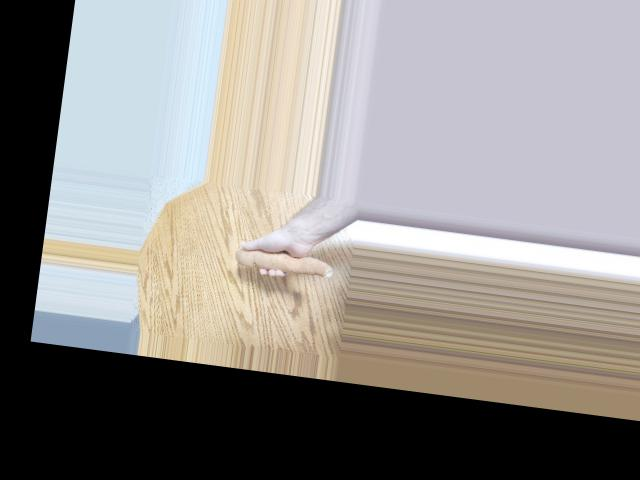sweet_potato: (233, 236, 337, 279)
